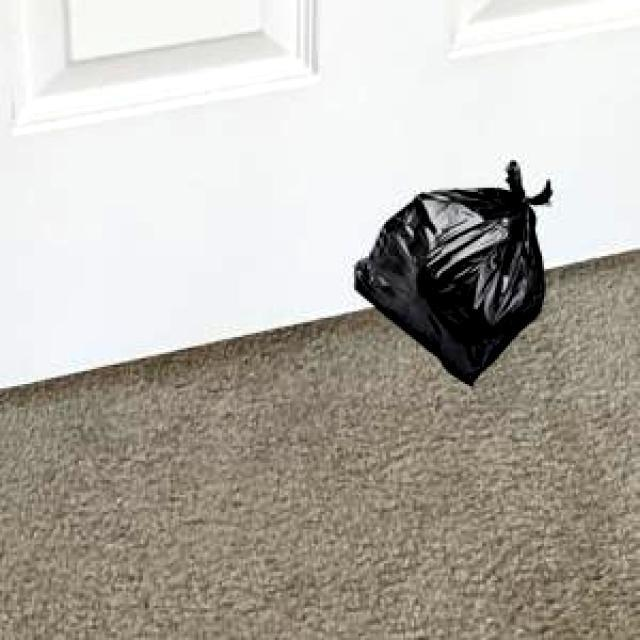Bolsa-de-nilon: (352, 159, 556, 387)
